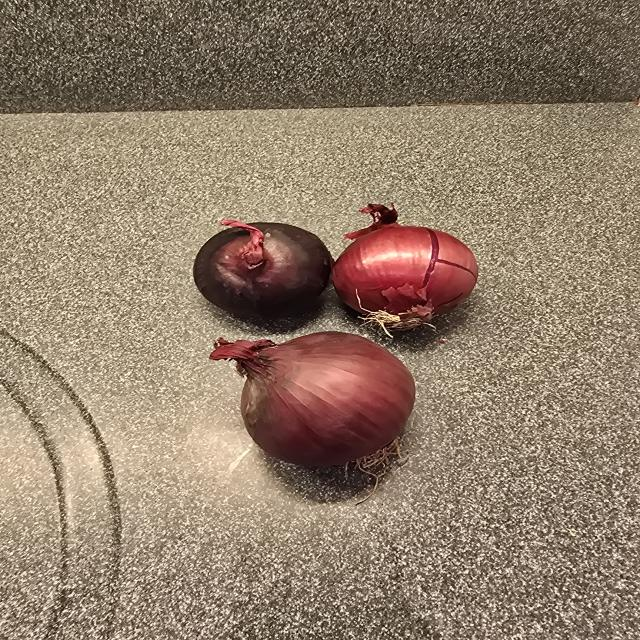Onion: (209, 332, 415, 469), (331, 204, 478, 330), (193, 222, 334, 326)
